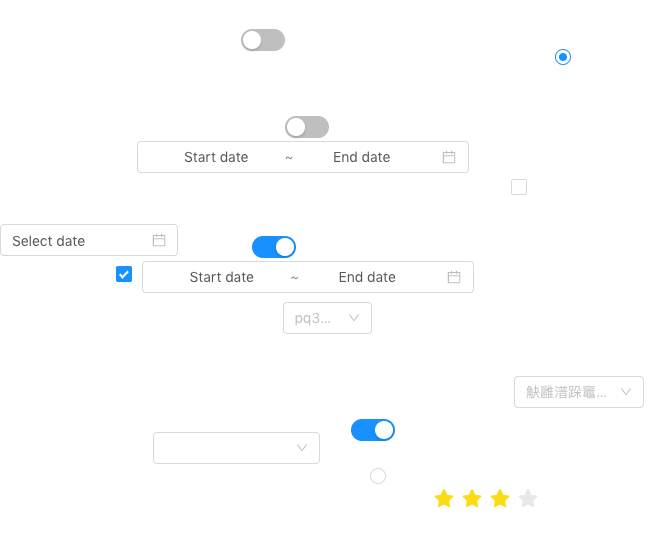Checkbox: (116, 263, 132, 284), (511, 176, 527, 197)
DatePicker: (0, 224, 178, 256)
Radio: (555, 46, 571, 66), (370, 465, 386, 485)
RangePicker: (142, 261, 640, 293), (137, 141, 496, 173)
Rate: (434, 482, 554, 514)
Select: (153, 432, 320, 464), (514, 376, 644, 408), (283, 302, 372, 334)
Switch: (351, 418, 395, 442), (241, 28, 285, 52), (285, 115, 329, 139), (252, 235, 296, 259)
